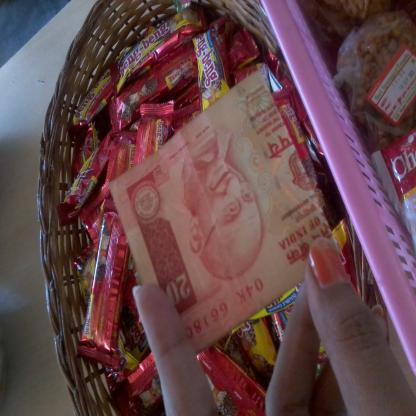Old20Front: (132, 128, 329, 357)
